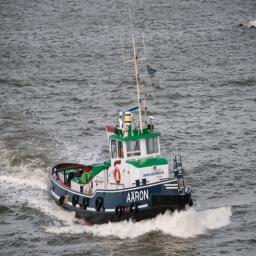tugboat: (47, 105, 197, 232)
